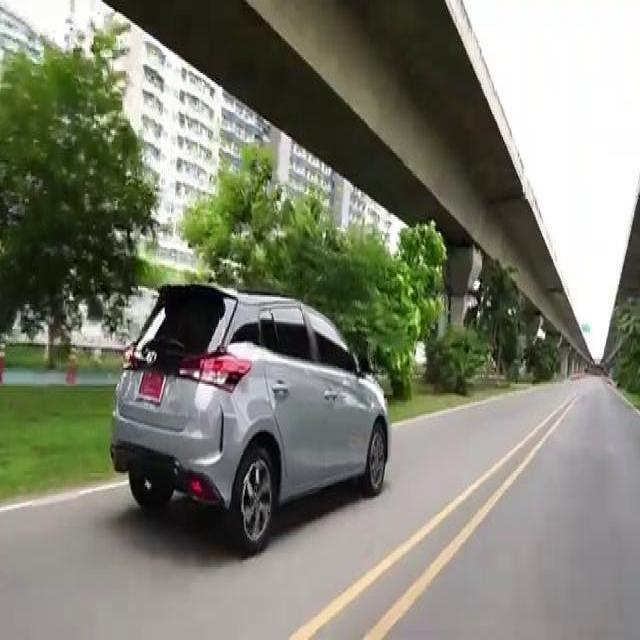Hatchback: (111, 283, 390, 553)
